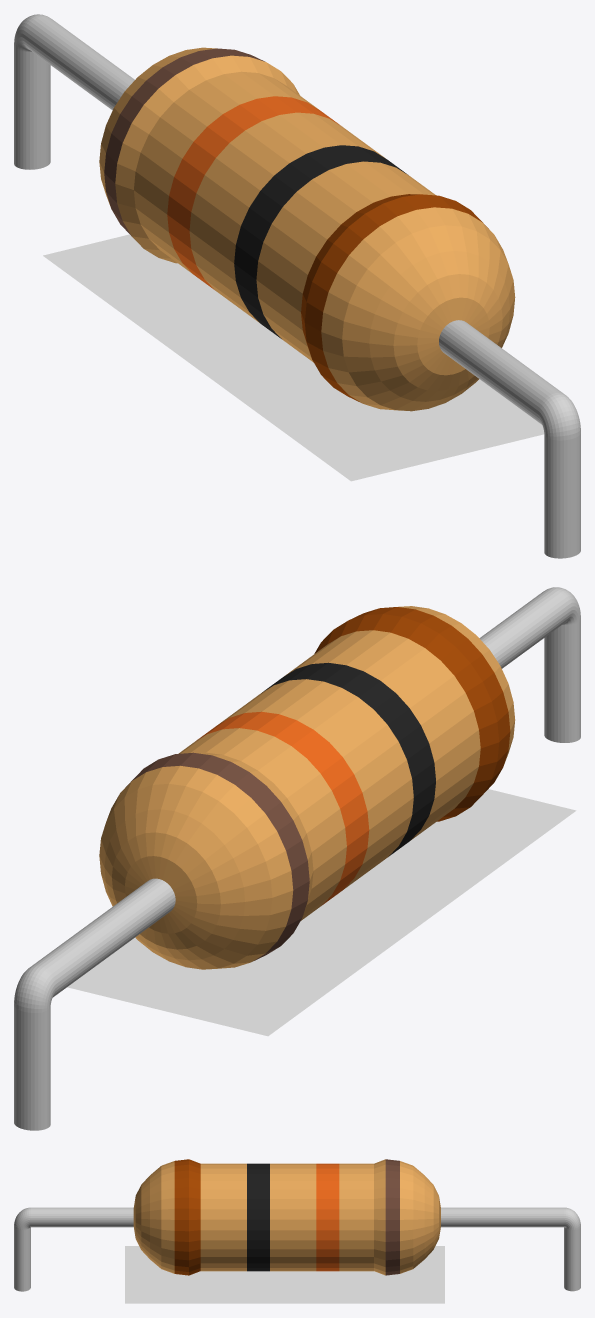
3 renders of one model, top to bottom at view 1: azimuth 30°, elevation 25°; view 2: azimuth 150°, elevation 25°; view 3: azimuth 270°, elevation 25°, orthographic. The views are drawn at different scales.
Visible parts, largest first — view 1: R_20, R_20_plane; view 2: R_20, R_20_plane; view 3: R_20, R_20_plane.
Part boxes in pixels (<box>): R_20: <box>14,14,580,558</box>; R_20_plane: <box>43,234,544,481</box>; R_20: <box>14,587,580,1130</box>; R_20_plane: <box>67,789,576,1036</box>; R_20: <box>14,1159,580,1291</box>; R_20_plane: <box>125,1246,444,1303</box>.
Bounding box in the file's own units: 0.0161 × 0.0159 × 0.0664.
